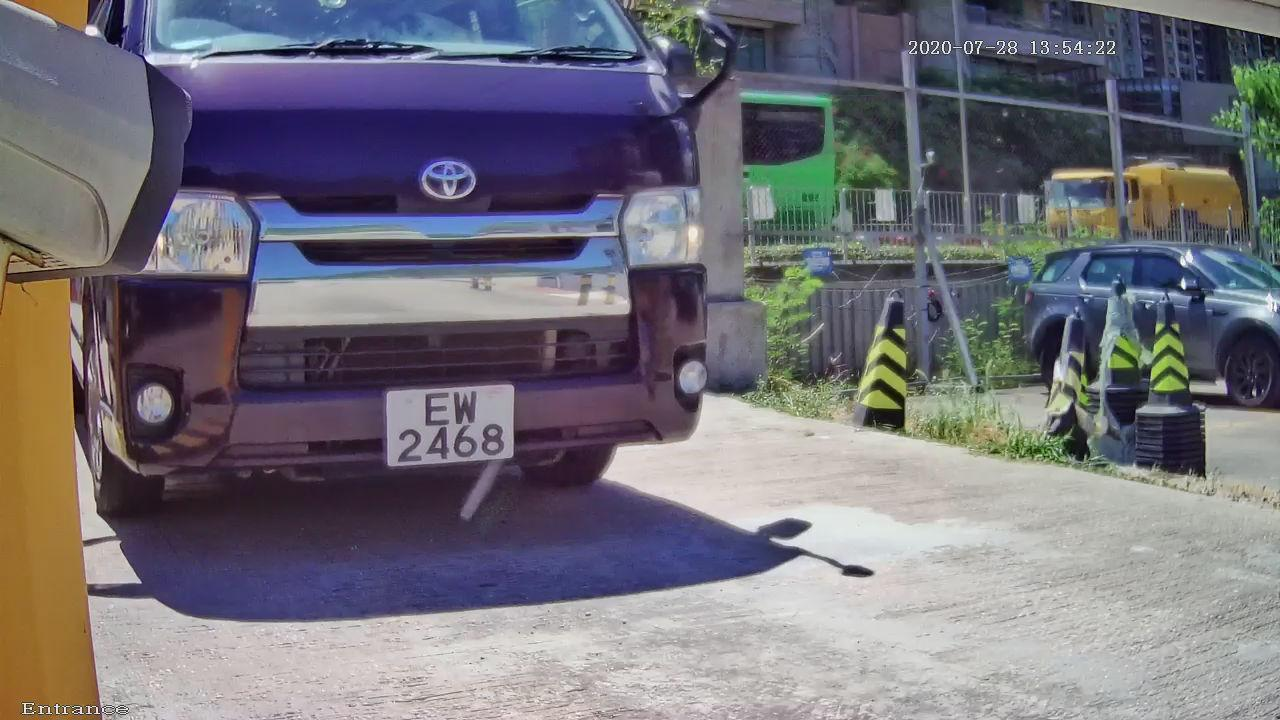privatecar: (35, 17, 806, 579)
